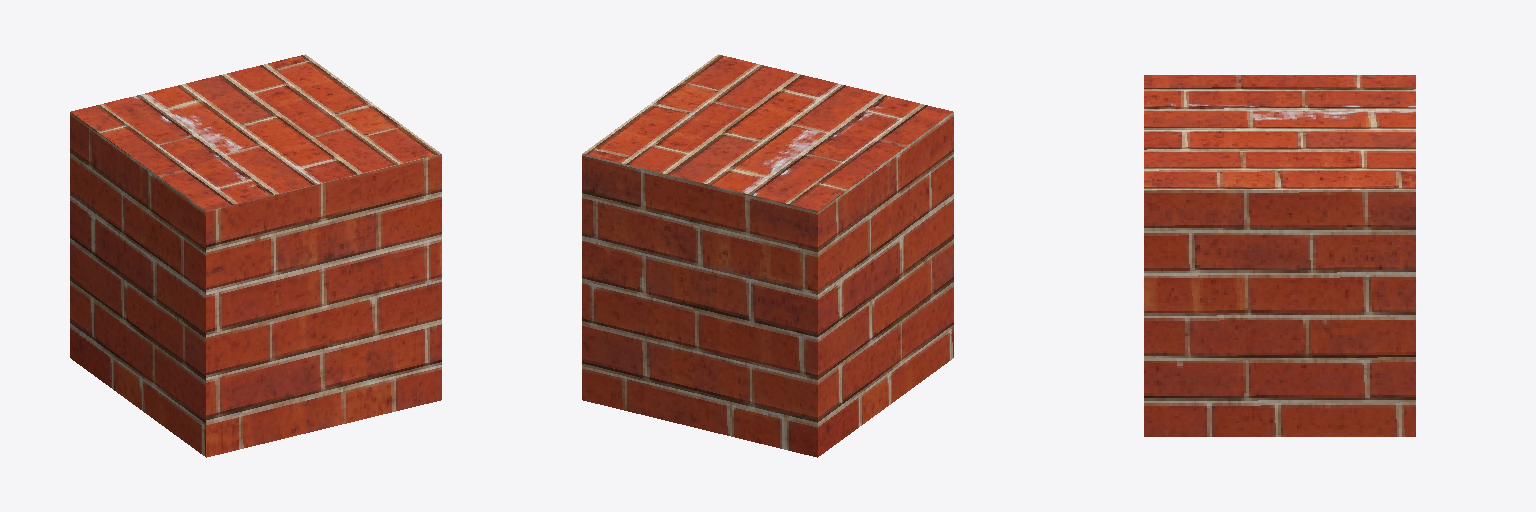
3 renders of one model, left to right at view 1: azimuth 30°, elevation 25°; view 2: azimuth 150°, elevation 25°; view 3: azimuth 270°, elevation 25°, orthographic.
Parts seen in each view (by area): view 1: Cube_Cube.001; view 2: Cube_Cube.001; view 3: Cube_Cube.001.
Boxes of the visible parts, <box> form: Cube_Cube.001: <box>70,54,441,457</box>; Cube_Cube.001: <box>582,54,953,457</box>; Cube_Cube.001: <box>1144,75,1415,436</box>.
Bounding box in the file's own units: 2 × 2 × 2.
Materials: 1 (1 with a texture image).